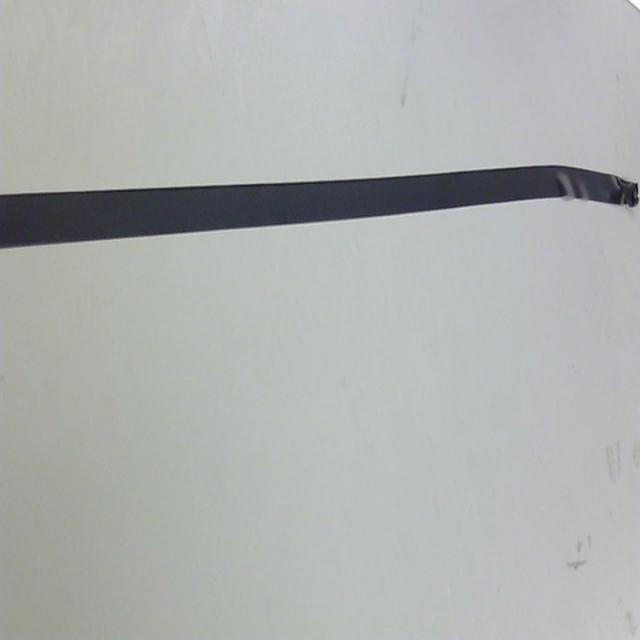tape: (0, 144, 640, 293)
